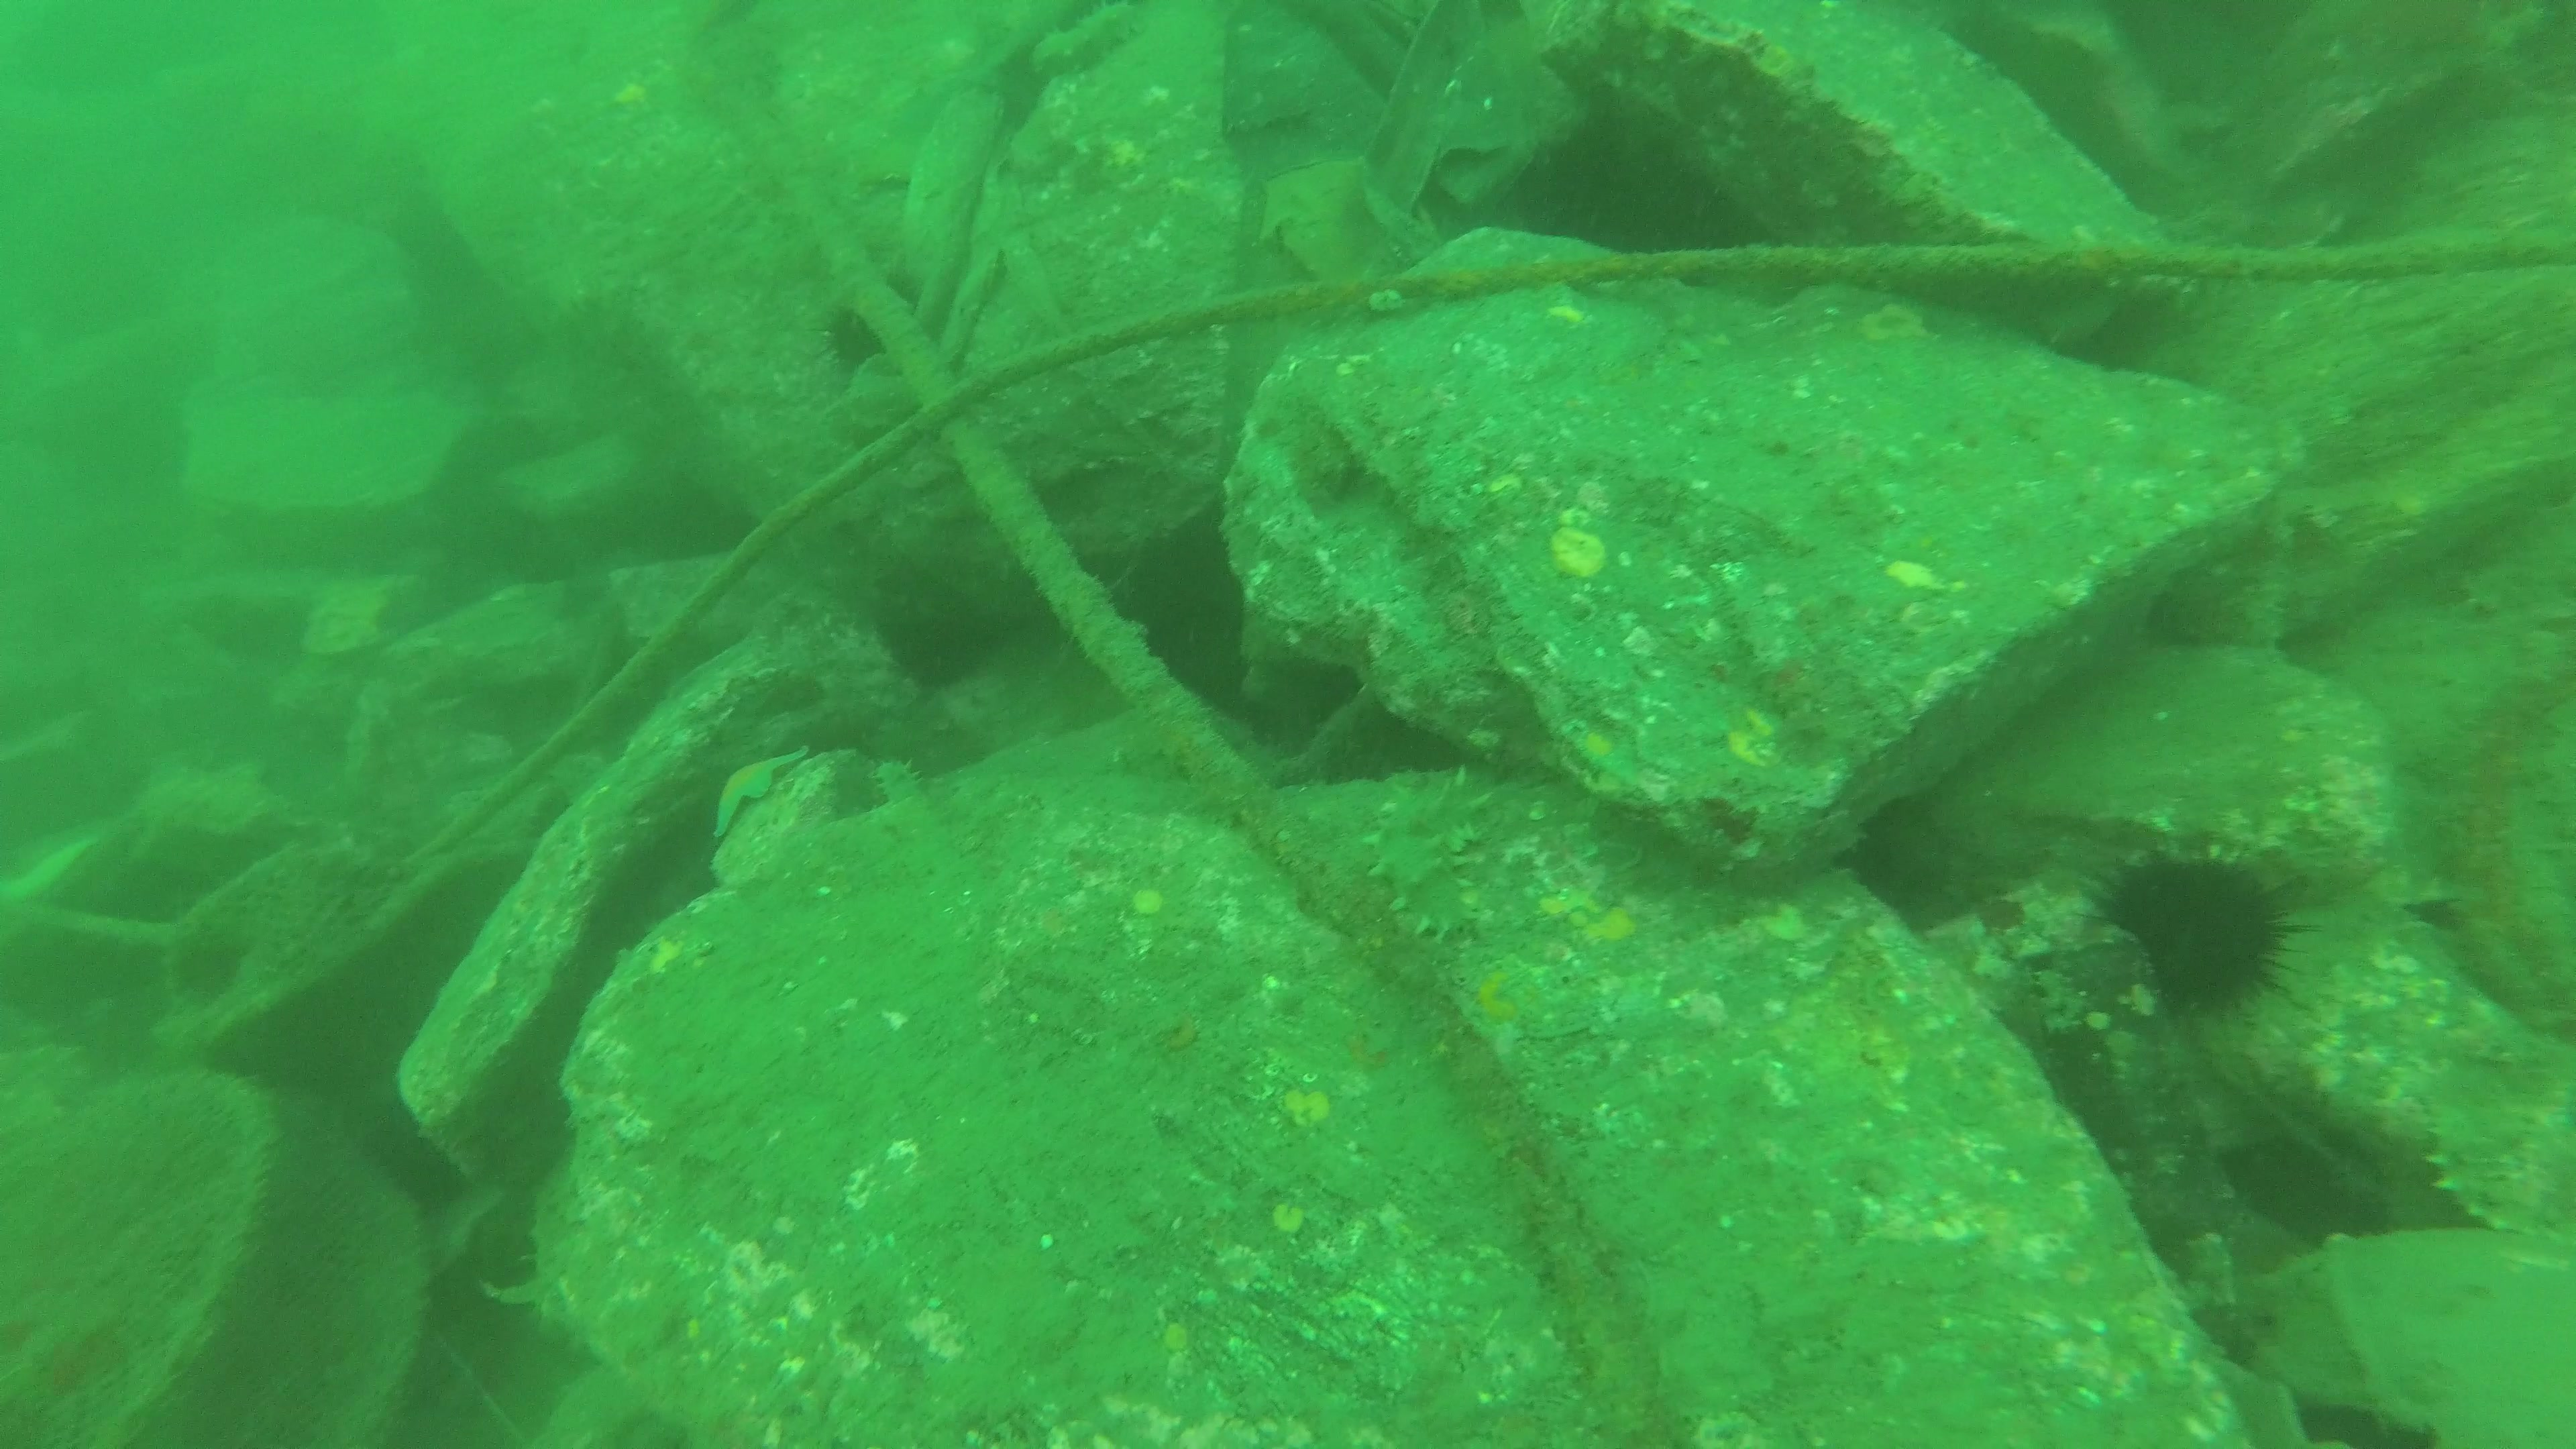echinus: (2070, 837, 2309, 1019), (823, 255, 932, 372)
holothurian: (1361, 763, 1486, 945), (2426, 1097, 2551, 1233), (872, 755, 927, 816)
